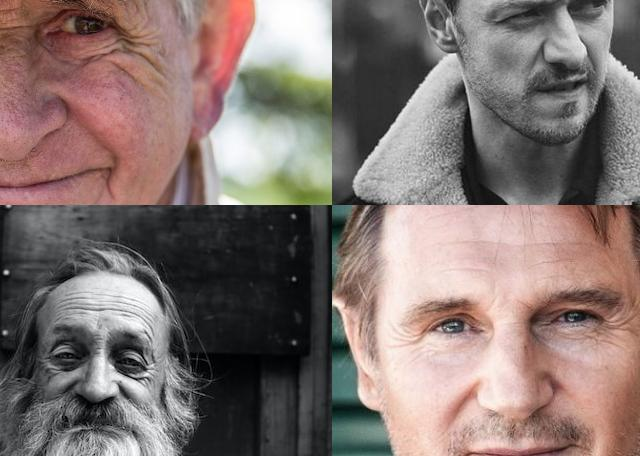crows_feet: (122, 16, 150, 62), (595, 306, 625, 340), (392, 323, 422, 351), (41, 354, 55, 376), (142, 363, 154, 385)
forehead: (456, 232, 532, 252), (106, 296, 146, 322), (542, 233, 596, 251), (440, 262, 492, 278), (65, 292, 101, 314), (534, 254, 570, 267)
frown_line: (0, 13, 25, 42), (90, 333, 106, 353), (516, 296, 538, 310), (551, 0, 570, 8)
gummy_smile: (450, 377, 472, 421), (113, 381, 135, 404), (531, 39, 545, 73), (58, 378, 78, 396)
sad_smile: (102, 160, 120, 200)
